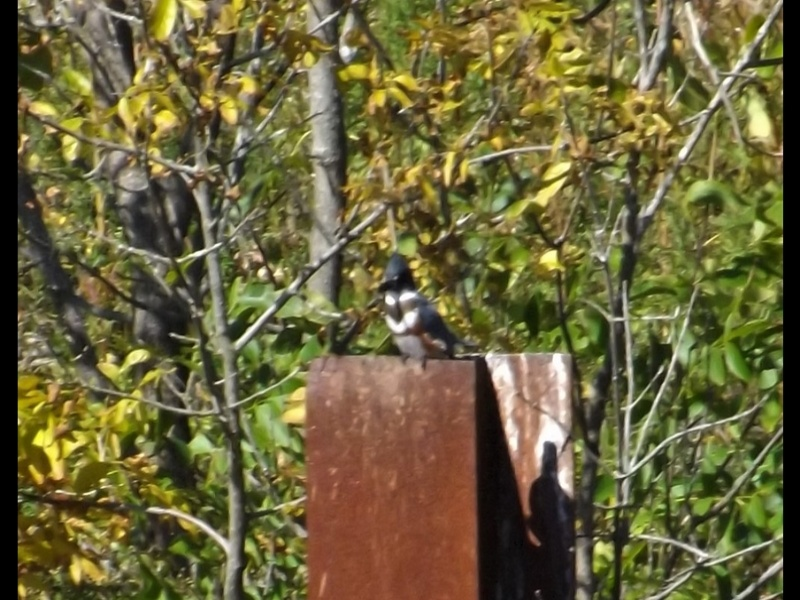kingfisher: (379, 249, 472, 370)
